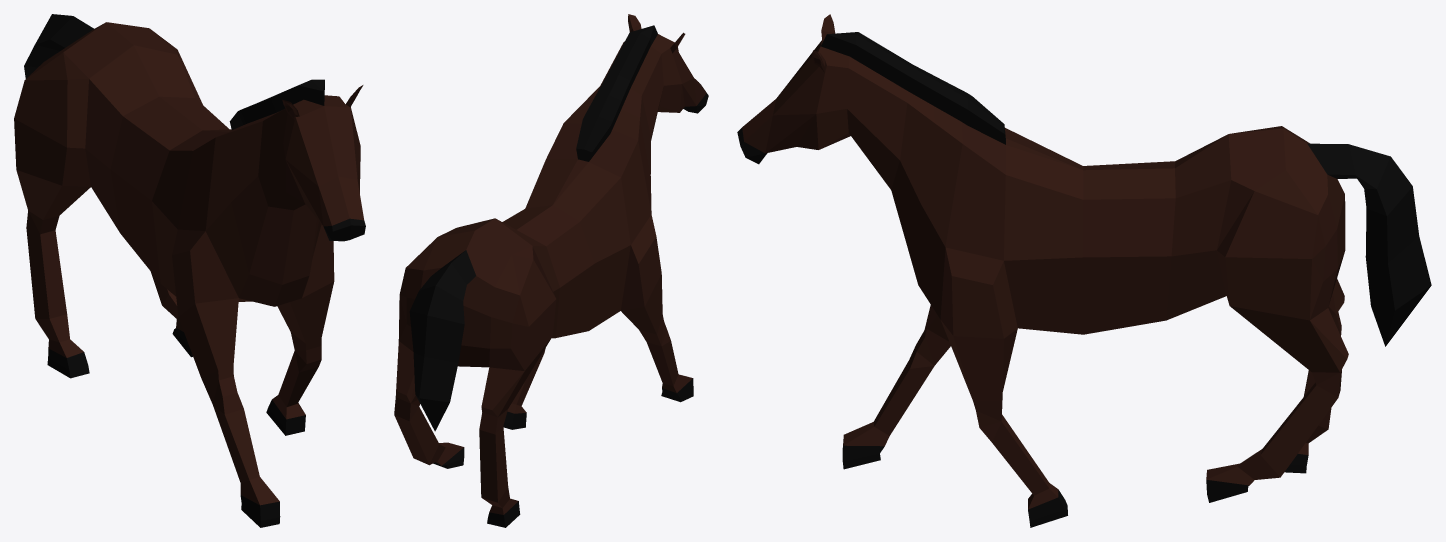
Rendered from Horse_000015.obj.
3 views of the same model, side by side, from view 1: azimuth 30°, elevation 25°; view 2: azimuth 150°, elevation 25°; view 3: azimuth 270°, elevation 25° (orthographic). The views are drawn at different scales.
Parts seen in each view (by area): view 1: Horse_Cylinder; view 2: Horse_Cylinder; view 3: Horse_Cylinder.
Part boxes in pixels (left/top/right/bottom): Horse_Cylinder: left=14, top=14, right=365, bottom=527; Horse_Cylinder: left=394, top=14, right=708, bottom=527; Horse_Cylinder: left=737, top=14, right=1431, bottom=527.
Bounding box in the file's own units: 2.6 × 6.72 × 9.31.
